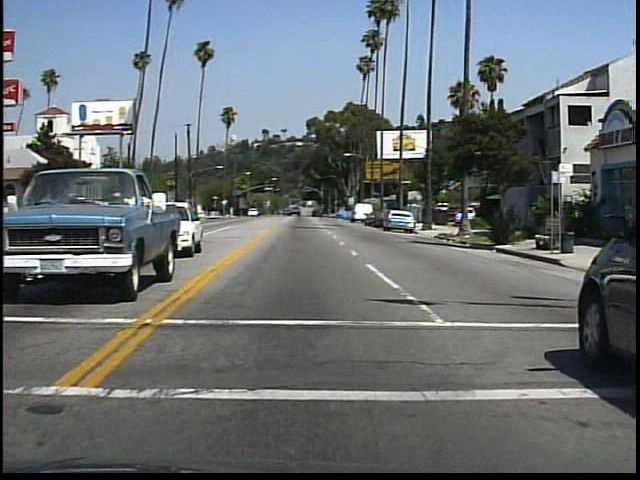person: (504, 198, 527, 249)
